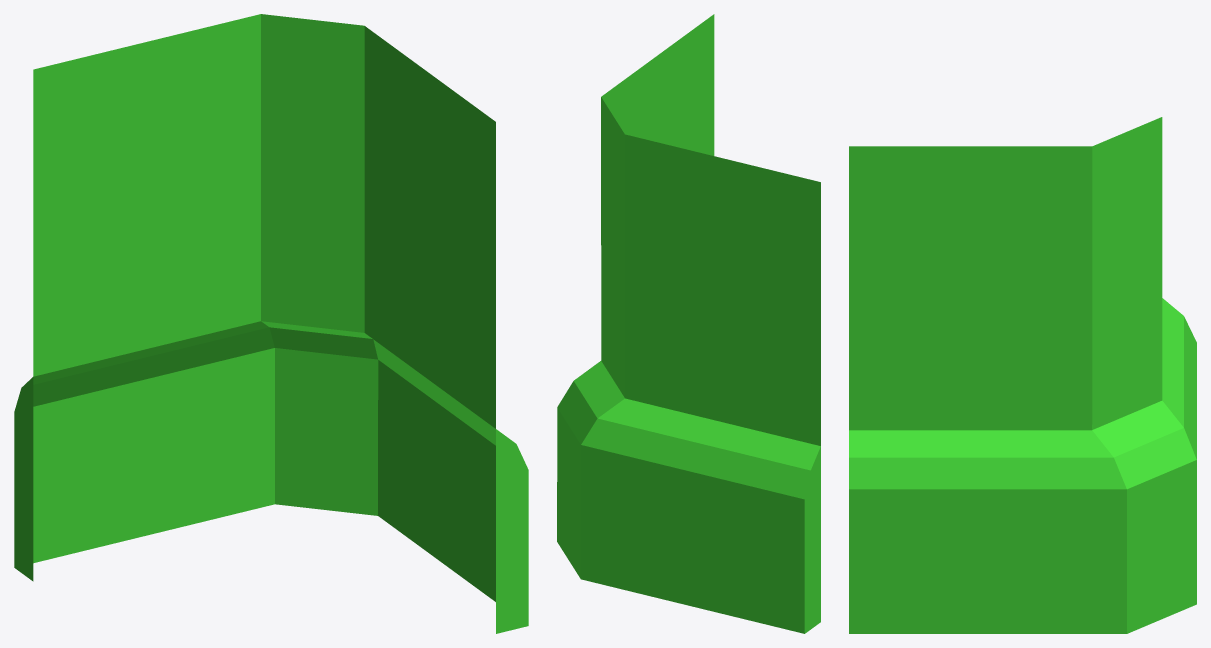
The model's file is Wall_43_A_Corner_Out_04.fbx.
3 views of the same model, side by side, from view 1: azimuth 30°, elevation 25°; view 2: azimuth 150°, elevation 25°; view 3: azimuth 270°, elevation 25° (orthographic). The views are drawn at different scales.
Parts seen in each view (by area): view 1: Wall_43_A_Corner_Out_04; view 2: Wall_43_A_Corner_Out_04; view 3: Wall_43_A_Corner_Out_04.
Part boxes in pixels (left/top/right/bottom): Wall_43_A_Corner_Out_04: left=14, top=14, right=528, bottom=633; Wall_43_A_Corner_Out_04: left=557, top=14, right=820, bottom=633; Wall_43_A_Corner_Out_04: left=849, top=117, right=1196, bottom=633.
Bounding box in the file's own units: 305 × 457 × 305.
